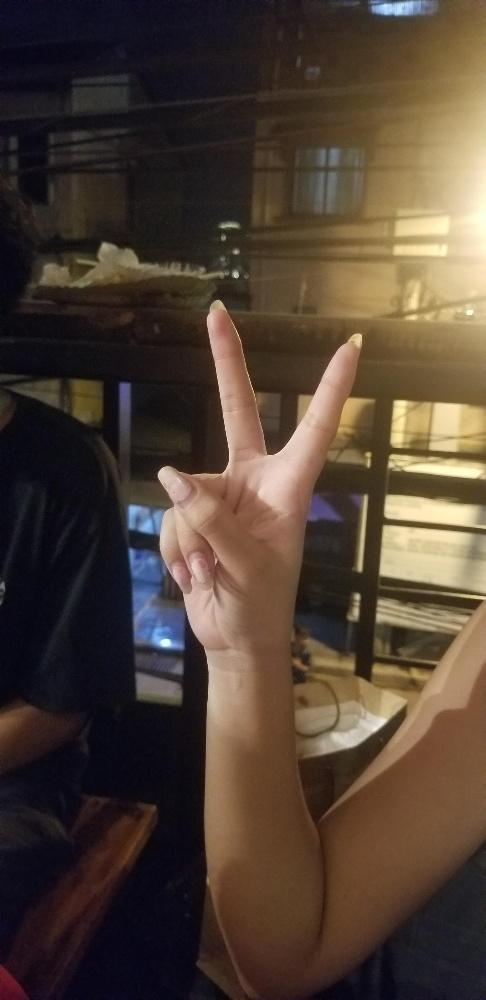v: (156, 295, 366, 656)
